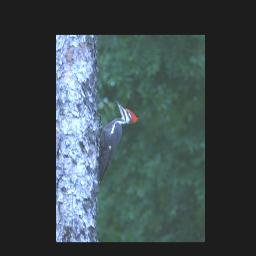Woodpecker: (95, 96, 137, 186)
